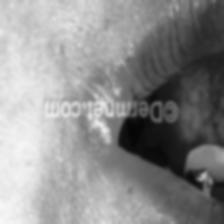Toxin: (82, 119, 116, 150), (88, 81, 127, 103)
